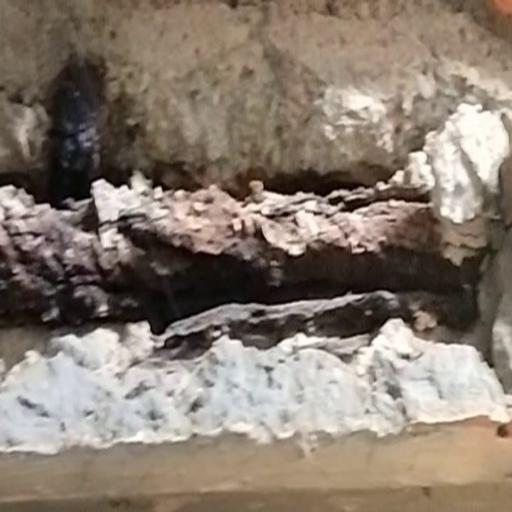spalling: (25, 12, 512, 392)
